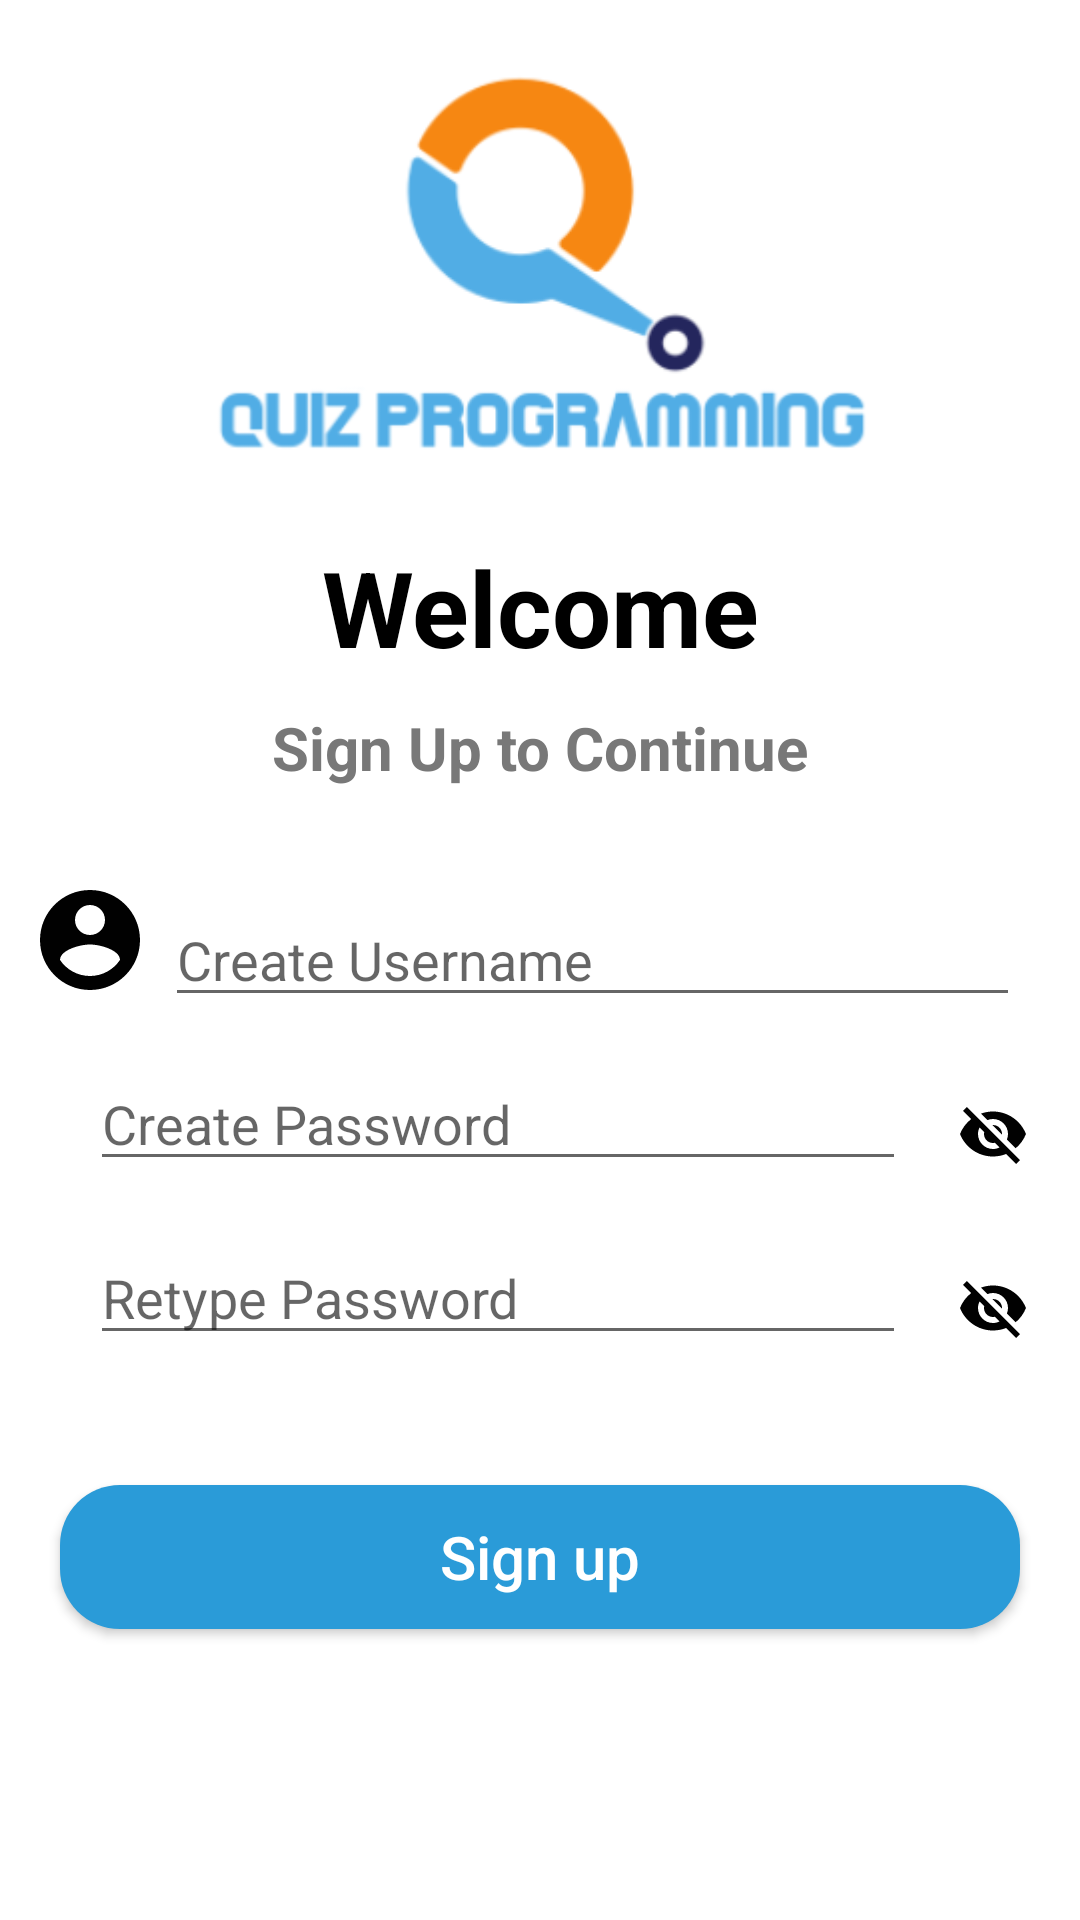

Where to tap for icons on this 1080w x 1920h app screen, as (x,y):
account circle: (90,940)
visibility off: (993,1135), (993,1309)
